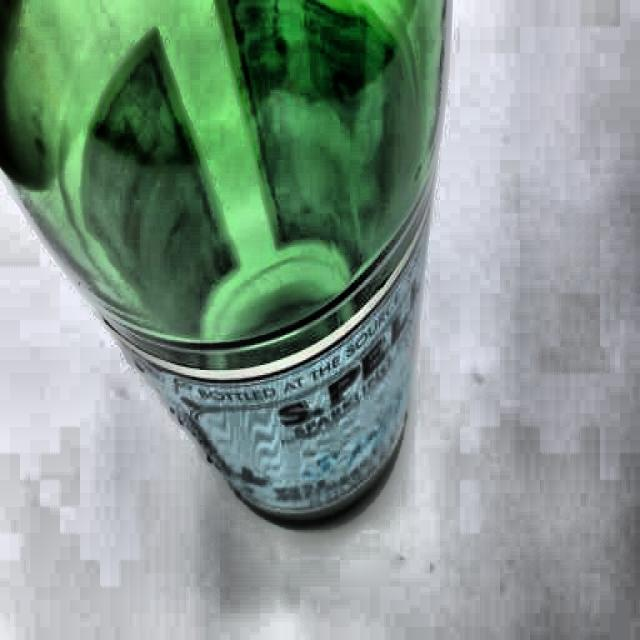glass: (0, 0, 455, 523)
